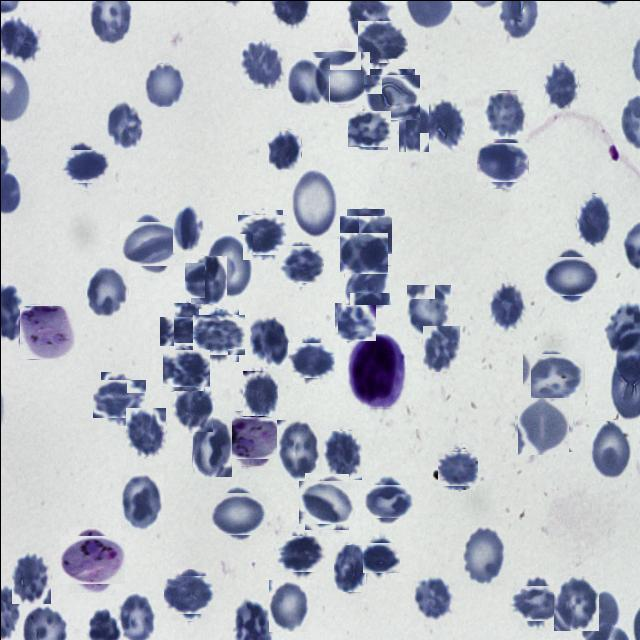difficult: (64, 530, 120, 588)
leukocyte: (348, 333, 404, 408)
red blood cell: (291, 165, 338, 238), (310, 48, 367, 106), (525, 350, 581, 406), (204, 233, 252, 297), (516, 398, 570, 453), (124, 216, 178, 270), (276, 419, 321, 482), (461, 524, 507, 585), (366, 70, 416, 121), (212, 488, 262, 538), (301, 476, 351, 526), (590, 419, 632, 478), (406, 283, 451, 338), (553, 575, 598, 630), (191, 416, 232, 476), (120, 472, 163, 529), (86, 263, 128, 318), (546, 251, 594, 299), (284, 56, 330, 106), (483, 88, 528, 138), (239, 40, 285, 88), (480, 138, 526, 184), (96, 376, 142, 422), (513, 579, 559, 625), (195, 312, 241, 358), (268, 579, 308, 631), (359, 19, 405, 64), (342, 212, 388, 257), (249, 316, 290, 366), (341, 230, 386, 275), (166, 572, 212, 616), (240, 212, 284, 257), (125, 407, 165, 456), (11, 553, 50, 603), (278, 532, 322, 576), (411, 573, 452, 620), (322, 430, 361, 479), (428, 99, 464, 152), (166, 308, 208, 352), (344, 264, 390, 304), (173, 386, 212, 432), (398, 104, 436, 151), (422, 324, 460, 371), (488, 282, 525, 330), (576, 192, 610, 244), (106, 100, 142, 149), (366, 479, 408, 521), (187, 258, 229, 300), (279, 242, 321, 284), (164, 346, 206, 388), (63, 144, 104, 187), (544, 59, 578, 108), (290, 339, 330, 380), (145, 63, 183, 106), (240, 370, 276, 415), (335, 301, 375, 341), (348, 108, 388, 148), (333, 543, 365, 591), (172, 206, 204, 252), (438, 450, 476, 488), (268, 128, 301, 169), (364, 540, 398, 574)
trophozoite: (18, 304, 74, 358), (227, 413, 276, 462)
